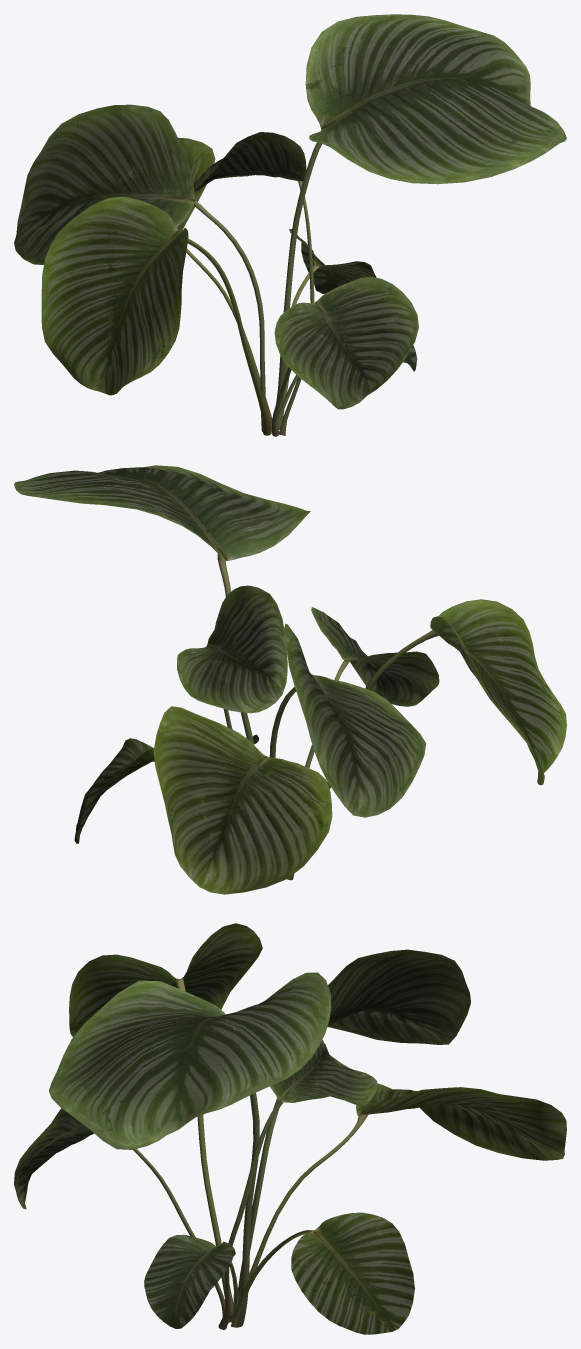
Rendered from ph-calathea-orbifolia-01.glb.
3 views of the same model, one above another, from view 1: azimuth 30°, elevation 25°; view 2: azimuth 150°, elevation 25°; view 3: azimuth 270°, elevation 25° (orthographic). The views are drawn at different scales.
Parts seen in each view (by area): view 1: calathea_orbifolia_01_a; view 2: calathea_orbifolia_01_a; view 3: calathea_orbifolia_01_a.
Boxes of the visible parts, x1,y1,x2,y2 form: calathea_orbifolia_01_a: (14,14,566,436); calathea_orbifolia_01_a: (14,465,566,894); calathea_orbifolia_01_a: (14,923,566,1334).
Bounding box in the file's own units: 0.6006 × 0.4243 × 0.5257.
1 material, 1 textured.
